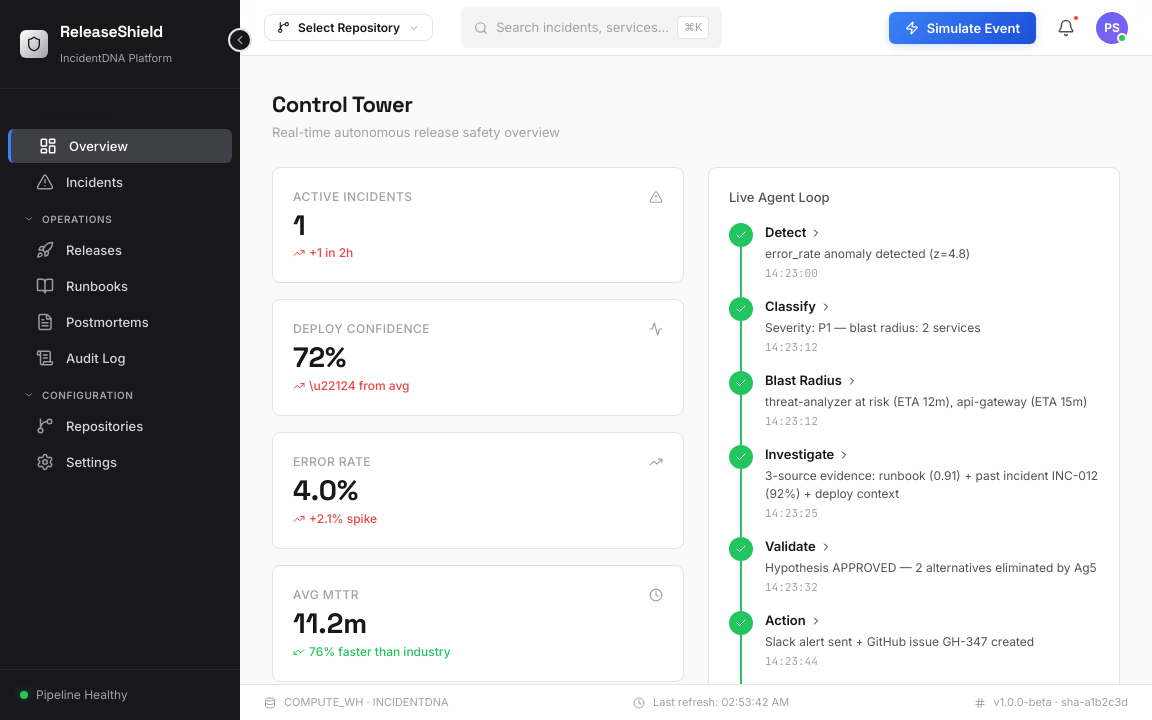
Scenario: Integration — Cross-Page Data Consistency › incidents referenced in overview are accessible in incidents page
Expected: the text "Live Agent Loop" is shown, [729,188,830,207]
# Navigate to incidents page
What coordinates should you click on to do the following:
click the button with id "nav-incidents"
I would click on:
 (120, 182)
Its box is [8,165,232,199].
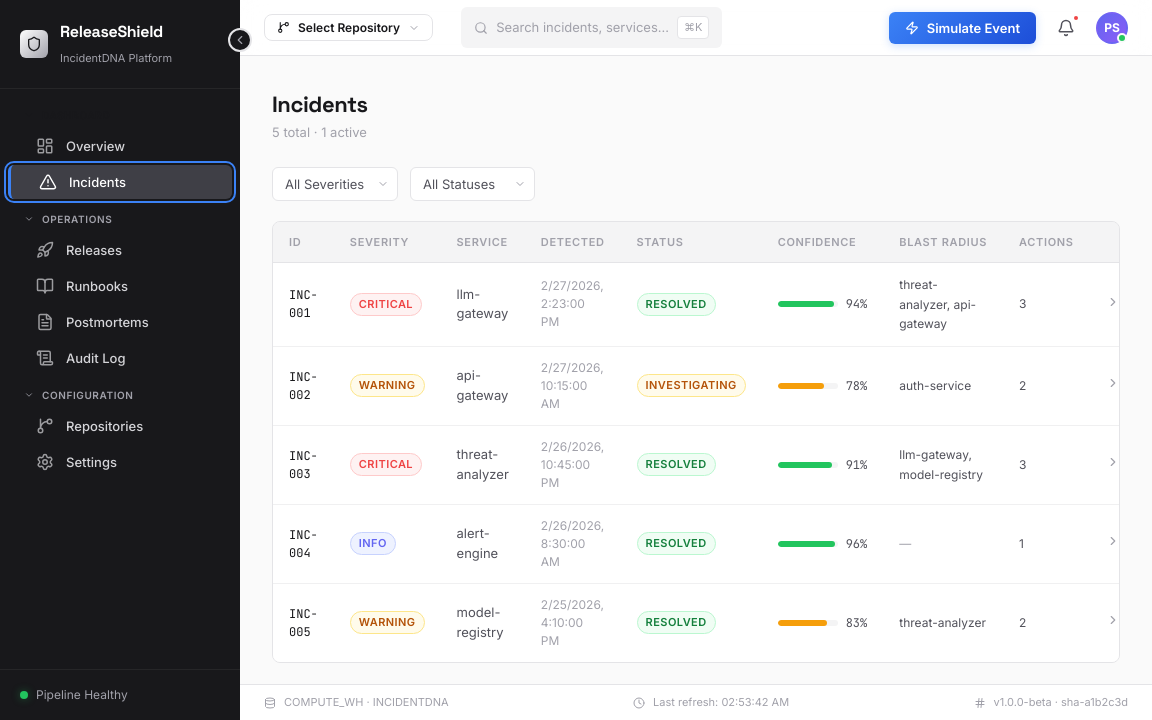
Expected: the text "INC-001" is shown, [273,262,334,346]
